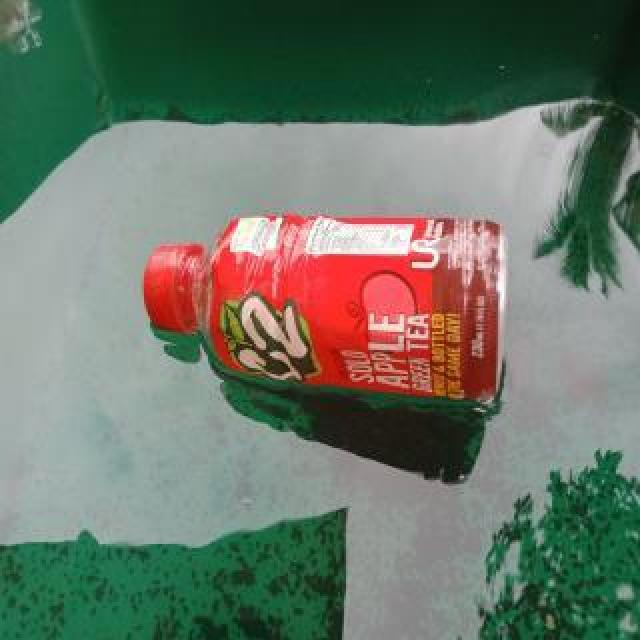bottle: (146, 213, 512, 401)
